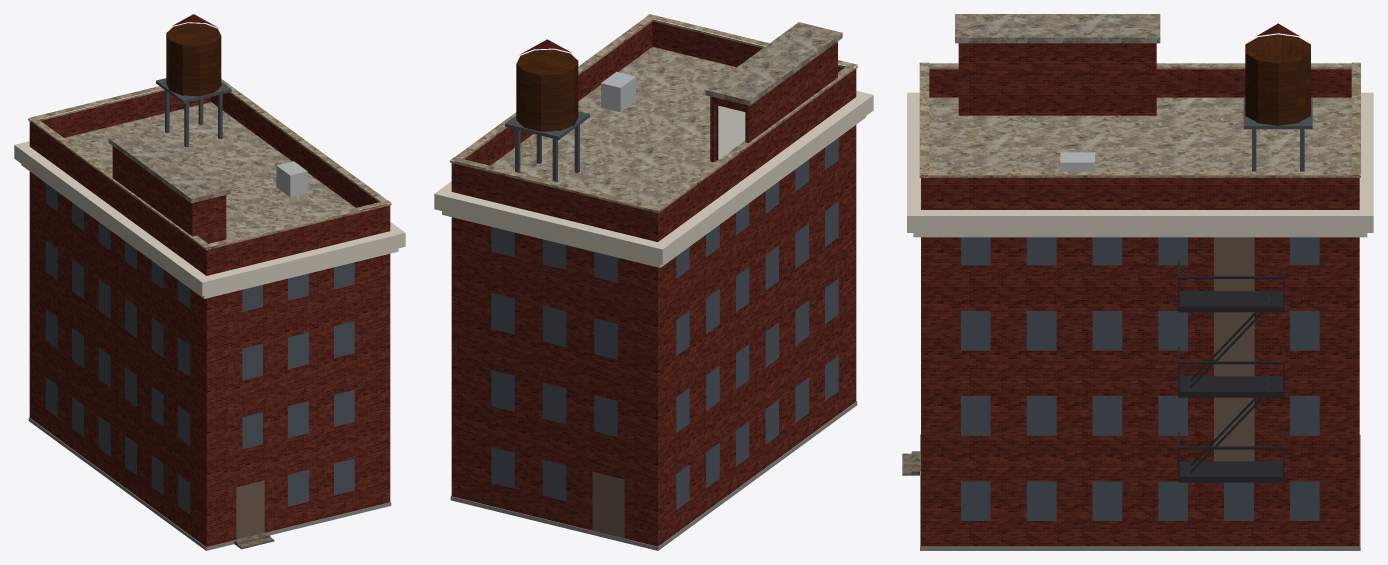
Rendered from mh-tenement.zfix-v22.lod1.glb.
3 views of the same model, side by side, from view 1: azimuth 30°, elevation 25°; view 2: azimuth 150°, elevation 25°; view 3: azimuth 270°, elevation 25° (orthographic). The views are drawn at different scales.
Parts seen in each view (by area): view 1: mh-tenement; view 2: mh-tenement; view 3: mh-tenement.
Boxes of the visible parts, <box> form: mh-tenement: <box>14,14,405,550</box>; mh-tenement: <box>434,14,873,550</box>; mh-tenement: <box>902,14,1373,550</box>.
Bounding box in the file's own units: 10.08 × 17.47 × 15.05.
4 materials, 3 textured.
